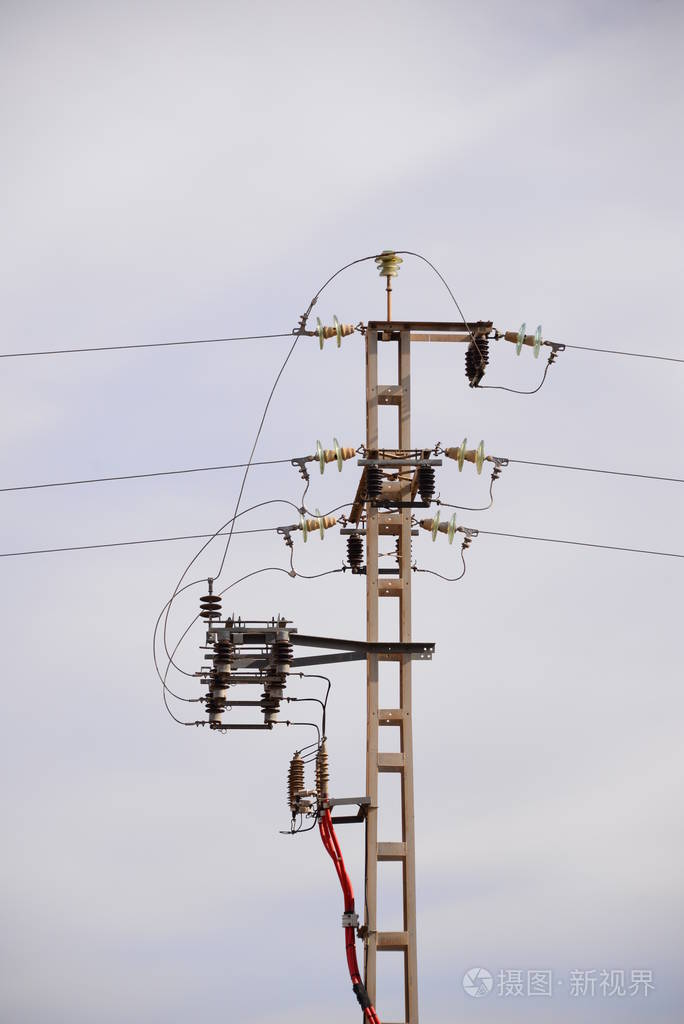insulator: (311, 434, 345, 478), (313, 313, 348, 355), (452, 437, 491, 474), (511, 322, 547, 357), (294, 509, 327, 546), (428, 507, 456, 550), (193, 593, 225, 623)
